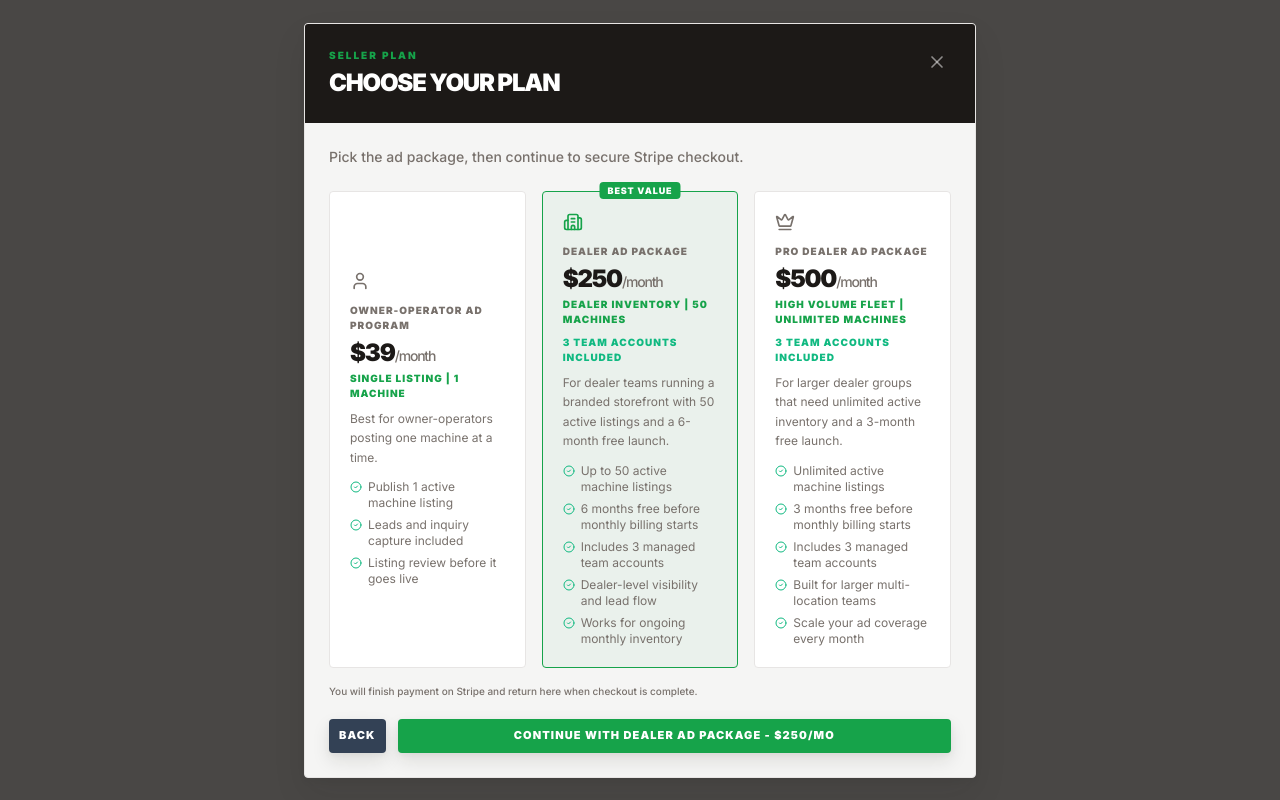
it: SubscriptionPaymentModal component › surfaces the checkout service error when Stripe session creation fails
Click the button "Continue with Dealer Ad Package - $250/mo": click(674, 736) x1=398 y1=718 x2=951 y2=752
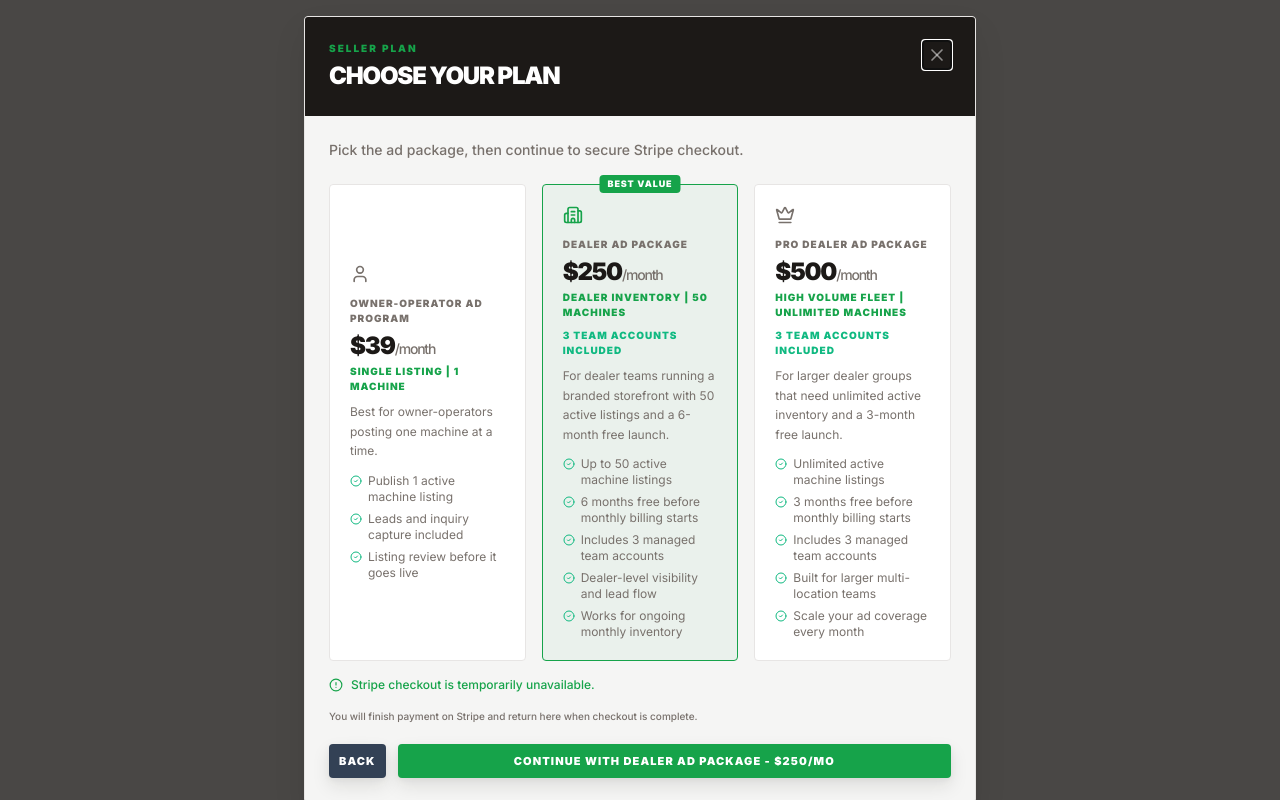
Check: the text "Stripe checkout is temporarily unavailable." is shown, box x1=351 y1=677 x2=595 y2=693
